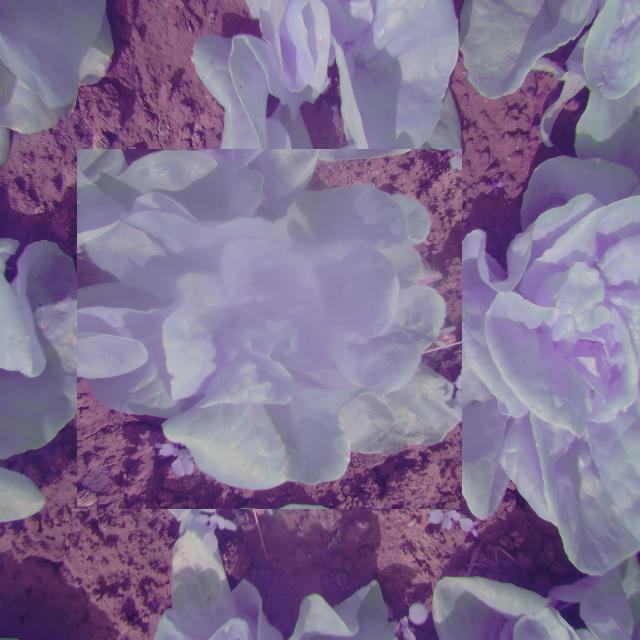vege: (83, 142, 456, 515)
